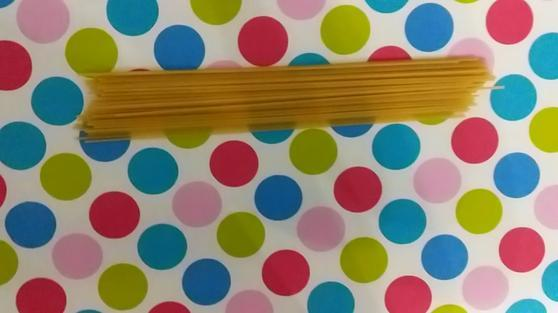spaghetti: (65, 52, 512, 139)
